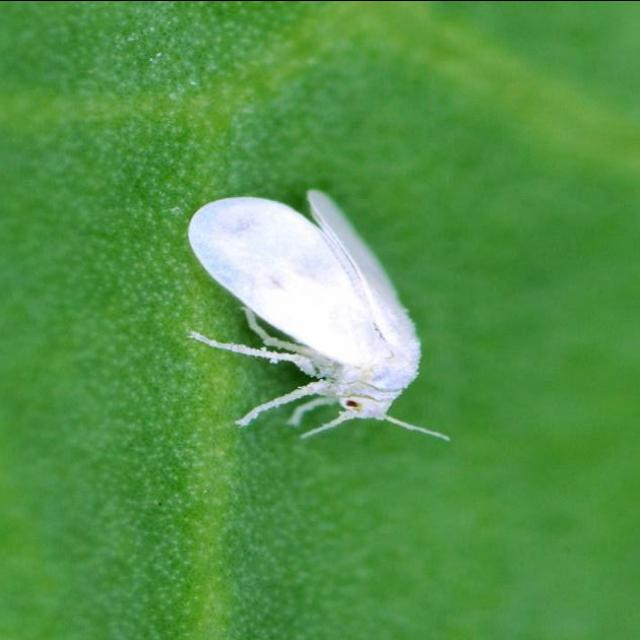Whitefly: (172, 175, 477, 445)
